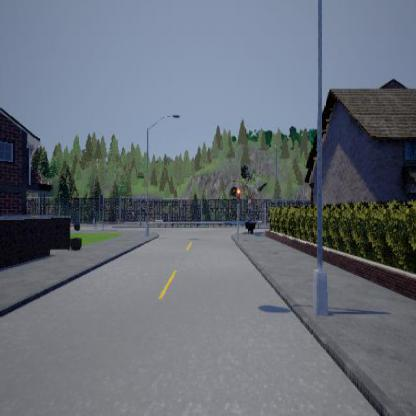traffic_light_red: (236, 185, 240, 206)
